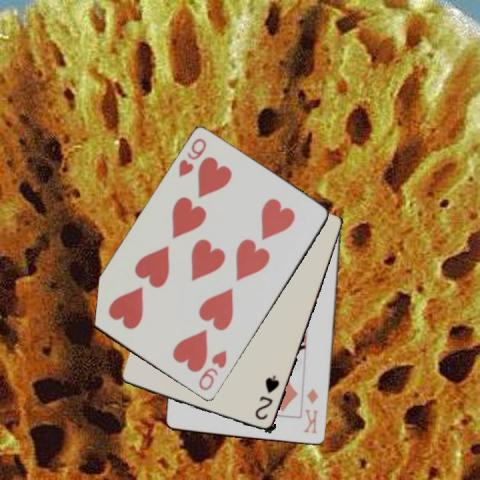2s: (252, 373, 281, 422)
9h: (195, 347, 229, 393), (175, 135, 208, 179)
Kd: (301, 386, 320, 436)
